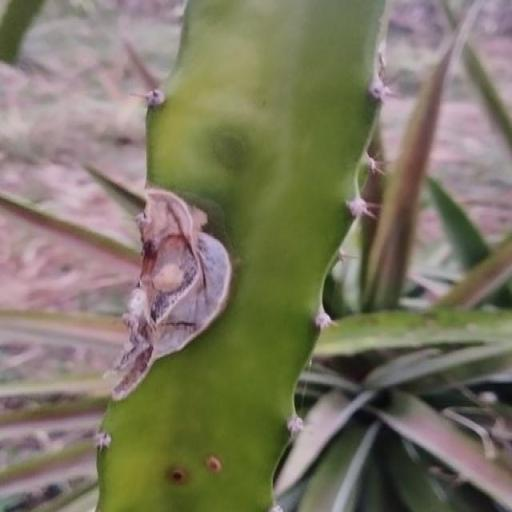stemcanker: (201, 446, 225, 477)
